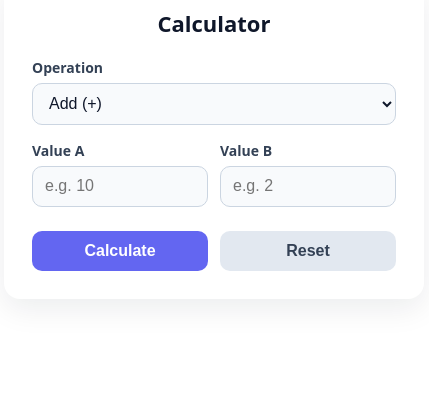
Test: <Calculator /> › displays the backend error message for domain errors like division by zero
Select "Divide (÷)" in the dropdown labelled "Operation". click: (214, 104)
box: [32,83,396,125]
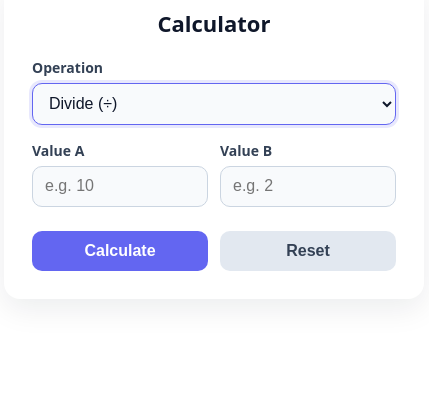
Type "10" into the number field labelled "Value A". click: (120, 186)
box: [32,166,208,207]
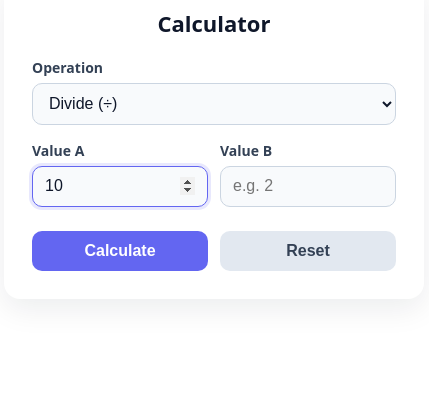
Type "0" into the number field labelled "Value B". click: (308, 186)
box: [220,166,396,207]
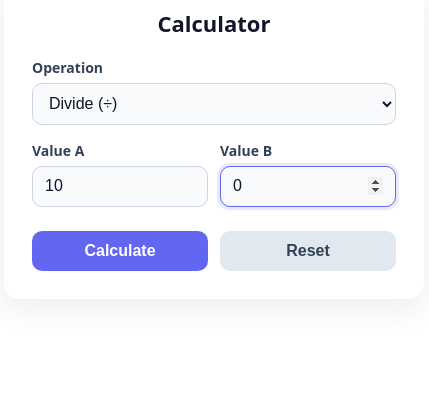
Click the button "Calculate". click: (120, 251)
box: [32,231,208,271]
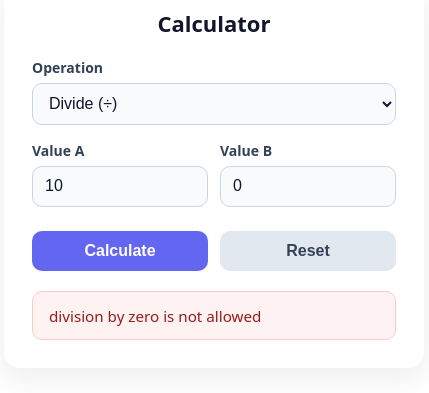
Expected: the message shows "division by zero", [49,306,261,326]
